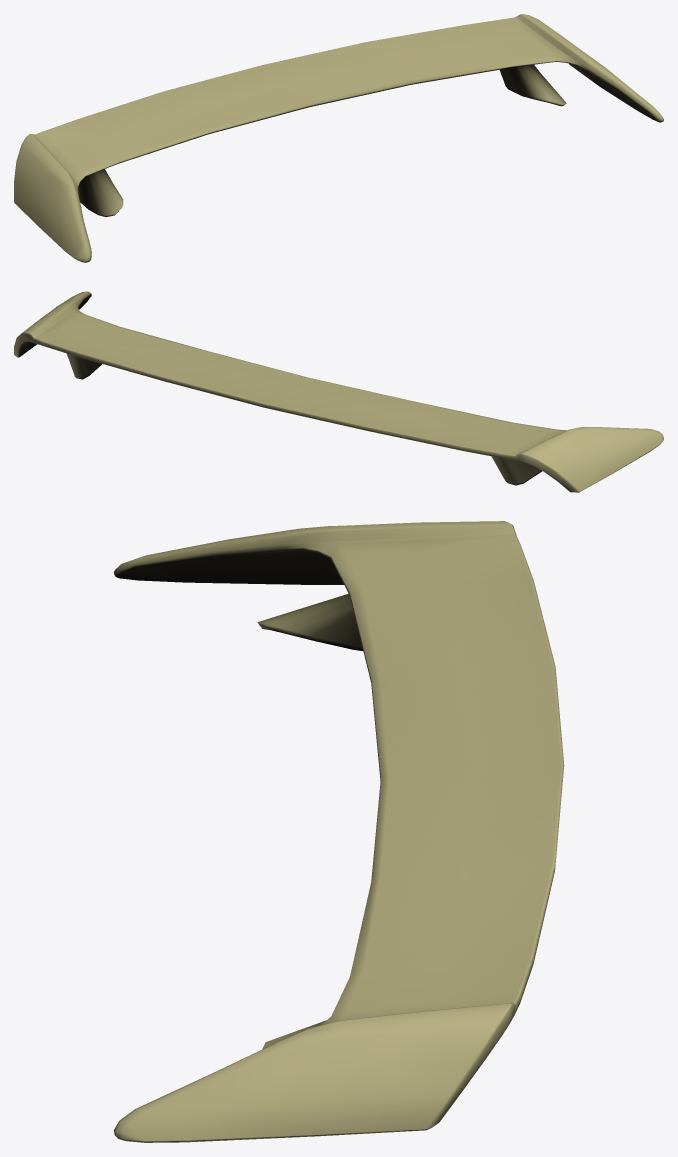
File: G37_Spoiler_04_Duco.fbx
3 renders of one model, top to bottom at view 1: azimuth 30°, elevation 25°; view 2: azimuth 150°, elevation 25°; view 3: azimuth 270°, elevation 25°, orthographic. The views are drawn at different scales.
Parts seen in each view (by area): view 1: G37_Spoiler_04_Duco; view 2: G37_Spoiler_04_Duco; view 3: G37_Spoiler_04_Duco.
Boxes of the visible parts, x1=… form: G37_Spoiler_04_Duco: x1=14, y1=14, x2=663, y2=262; G37_Spoiler_04_Duco: x1=14, y1=291, x2=663, y2=492; G37_Spoiler_04_Duco: x1=114, y1=521, x2=564, y2=1142.
Size of the model in its own units: 156 by 13.53 by 51.99.
